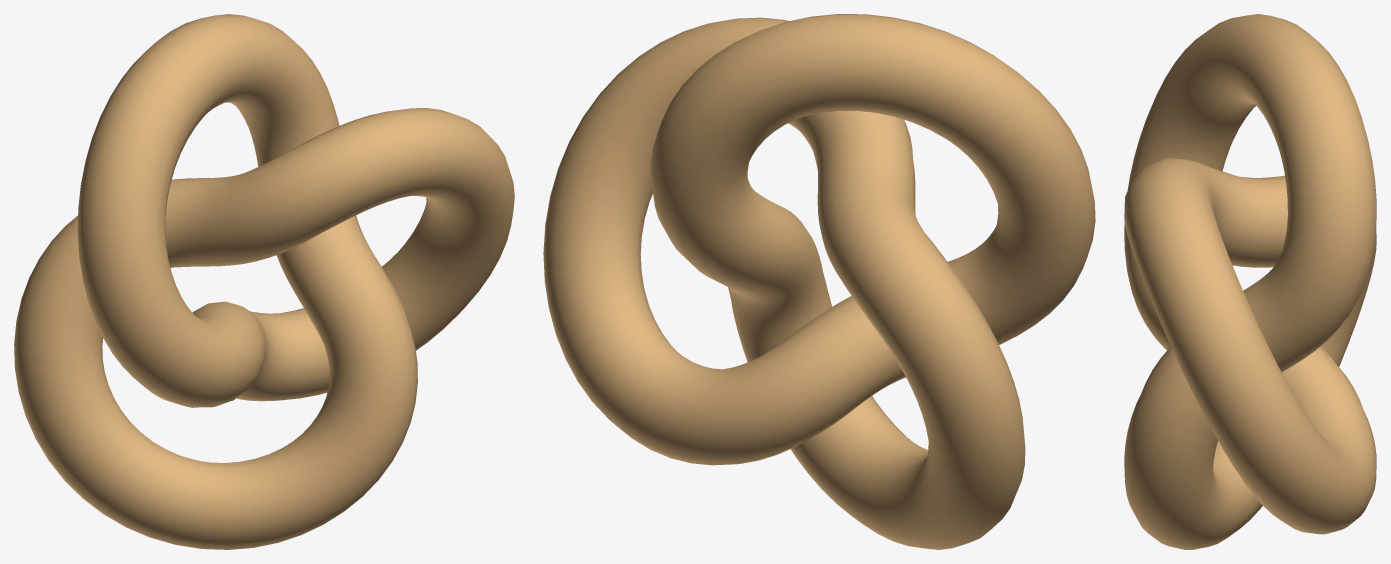
The model's file is knot.glb.
3 views of the same model, side by side, from view 1: azimuth 30°, elevation 25°; view 2: azimuth 150°, elevation 25°; view 3: azimuth 270°, elevation 25° (orthographic). The views are drawn at different scales.
Parts seen in each view (by area): view 1: torus-knot; view 2: torus-knot; view 3: torus-knot.
Part boxes in pixels (<box>): torus-knot: <box>14,14,514,549</box>; torus-knot: <box>543,14,1095,549</box>; torus-knot: <box>1124,14,1376,549</box>.
Bounding box in the file's own units: 129 × 135 × 61.7.
